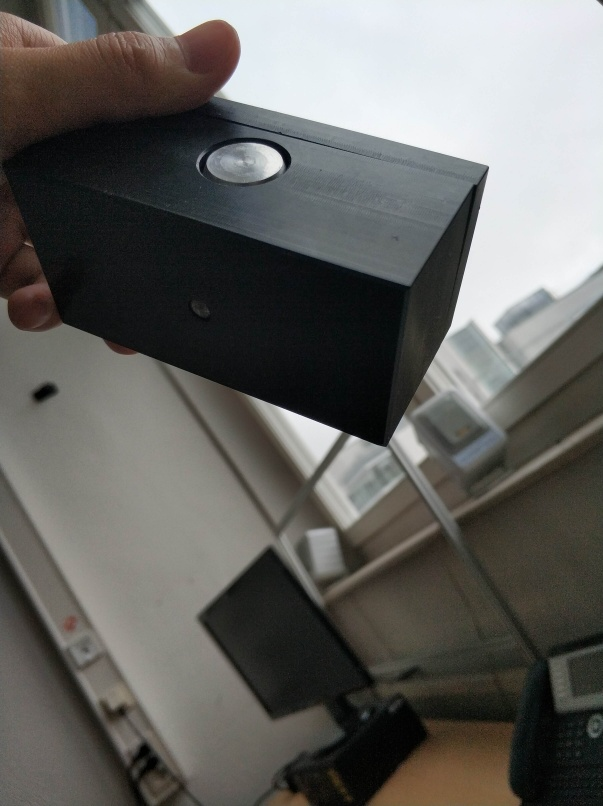black+black+silver: (2, 83, 495, 448)
